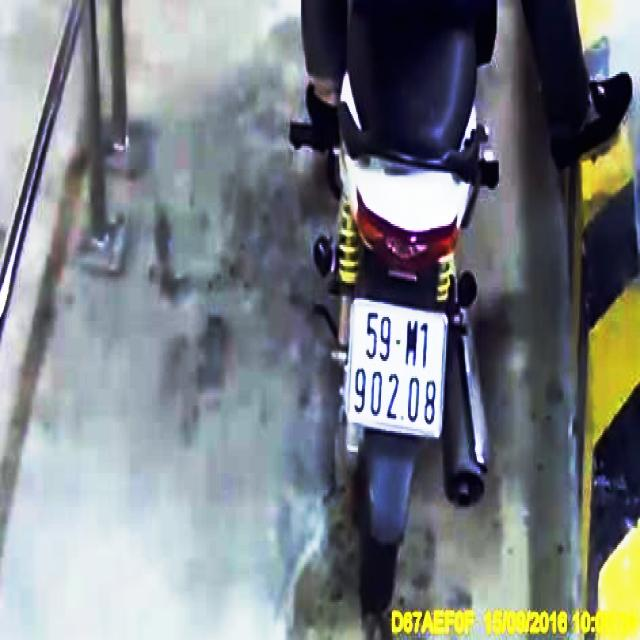license_plate: (351, 303, 451, 440)
